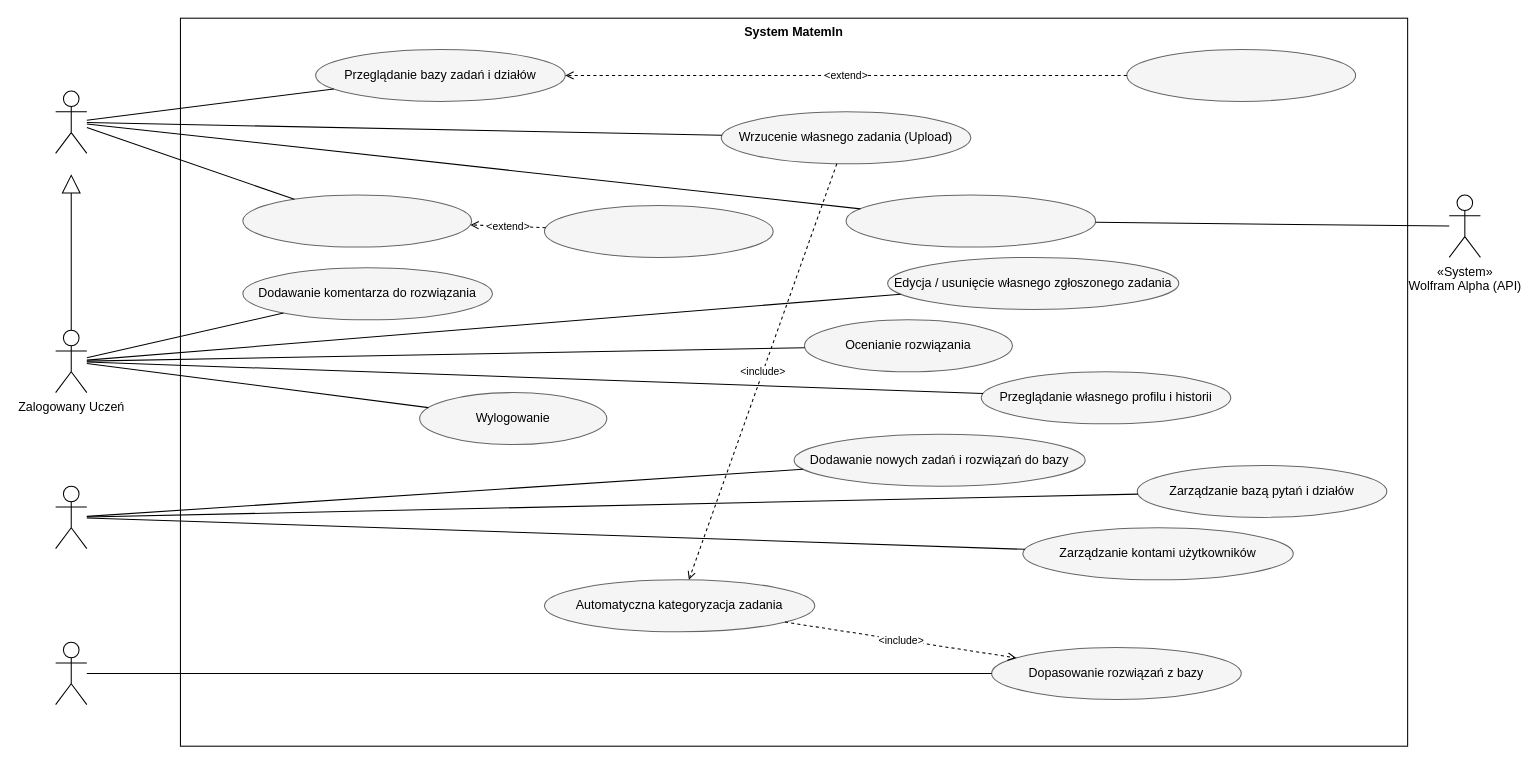
Some shapes in this 1538 by 764 pixel diagram are drawn without their labels. The centre of each missing label's shape, as x and y in pixels:
Autor / Moderator: point 71,517
Podanie daty urodzenia: point 658,230
Rejestracja i logowanie: point 357,220
Uczeń (Gość): point 71,121
Wykonywanie obliczeń (Kalkulator): point 970,220
Wyszukiwanie zadań po kryteriach: point 1241,74
«System» Model LLM (API): point 71,673
